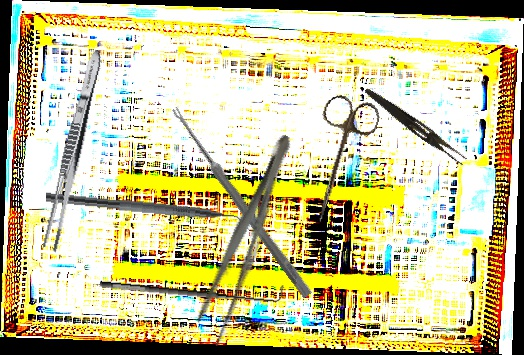Chopper: (44, 192, 252, 234)
Dressing Forceps: (188, 128, 303, 349), (40, 47, 107, 254), (360, 86, 470, 166)
Hook Surgical: (99, 266, 286, 310)
Iris Scissors: (295, 91, 383, 231)
Surgical Spoon: (168, 105, 314, 299)
